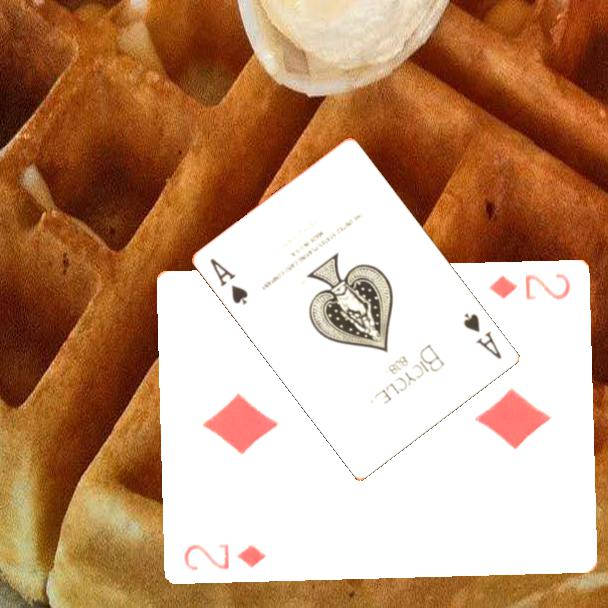d02: (486, 269, 574, 302), (181, 540, 269, 573)
s01: (460, 309, 505, 362), (207, 255, 251, 308)
